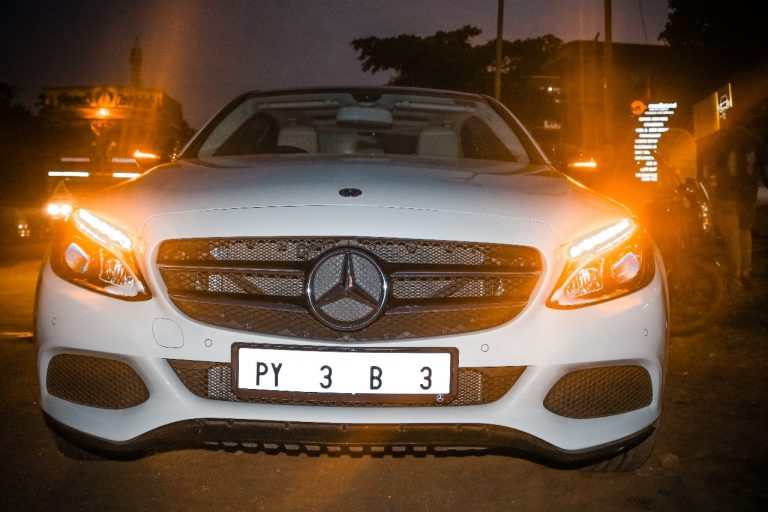number_plate: (229, 339, 463, 409)
